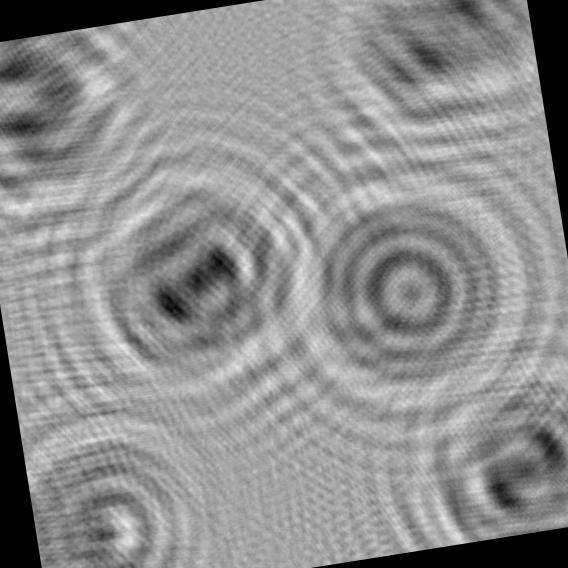B: (17, 114, 343, 437)
C: (16, 382, 241, 568)
M: (0, 20, 164, 239)
Q: (245, 116, 568, 446)
S: (375, 321, 568, 552)
Z: (310, 0, 549, 178)
